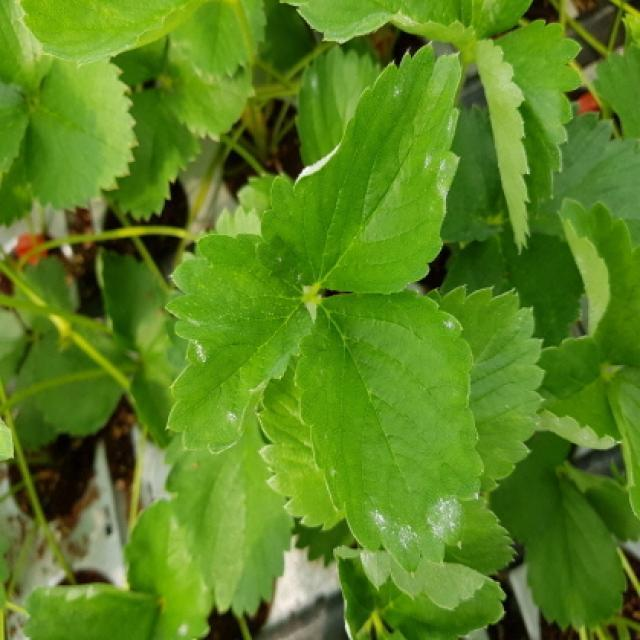powdery_mildew_leaf: (291, 287, 486, 576), (255, 39, 465, 297), (160, 231, 312, 454)
